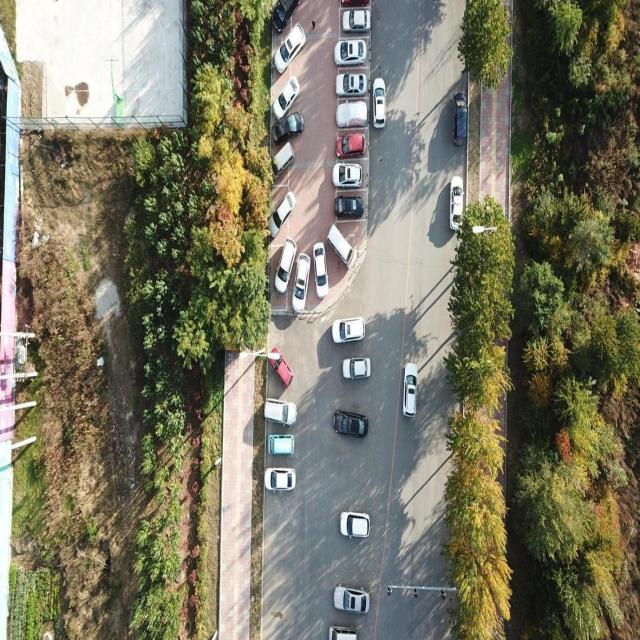p3rson: (311, 18, 316, 30)
